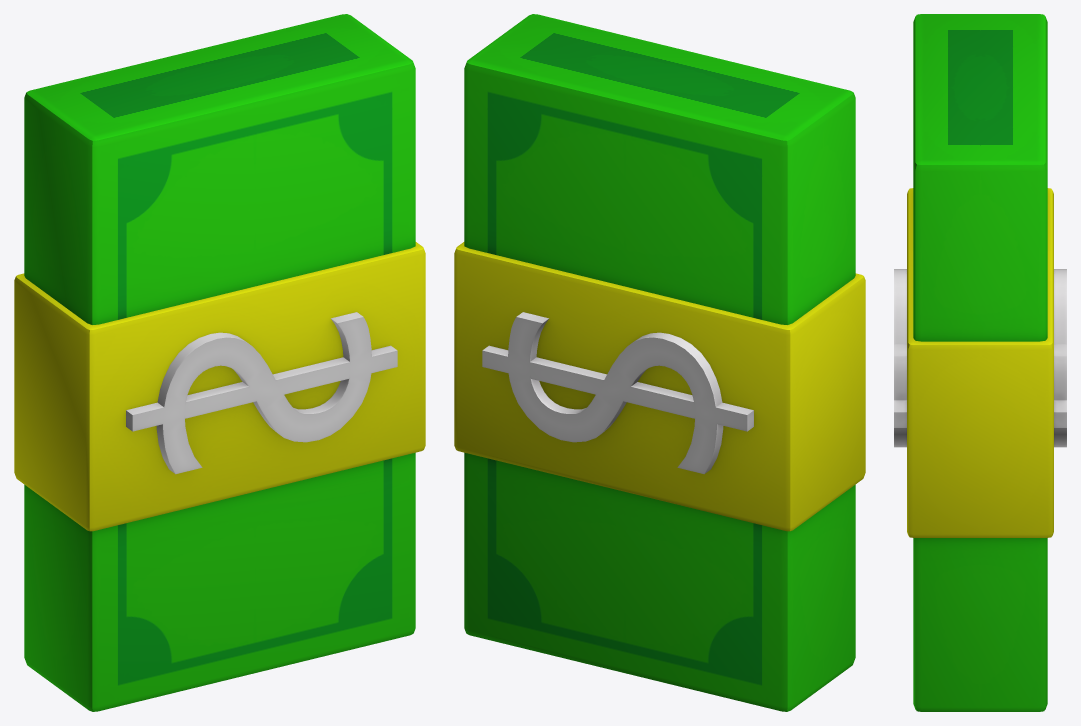
The model's file is qizi_03.FBX.
3 renders of one model, left to right at view 1: azimuth 30°, elevation 25°; view 2: azimuth 150°, elevation 25°; view 3: azimuth 270°, elevation 25°, orthographic. The views are drawn at different scales.
Visible parts, largest first — view 1: qizi_03; view 2: qizi_03; view 3: qizi_03.
Boxes of the visible parts, left/top/right/bottom form: qizi_03: left=14, top=14, right=425, bottom=711; qizi_03: left=454, top=14, right=865, bottom=711; qizi_03: left=894, top=14, right=1066, bottom=711.
Size of the model in its own units: 45.36 by 73.53 by 20.92.
Materials: 1 (1 with a texture image).
